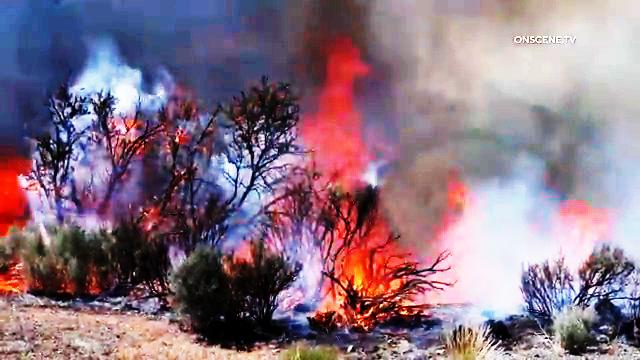fire: (307, 209, 423, 336), (295, 39, 381, 188), (429, 181, 486, 311), (543, 198, 610, 276), (0, 165, 36, 244)
smoke: (114, 0, 278, 102), (395, 46, 508, 166)
